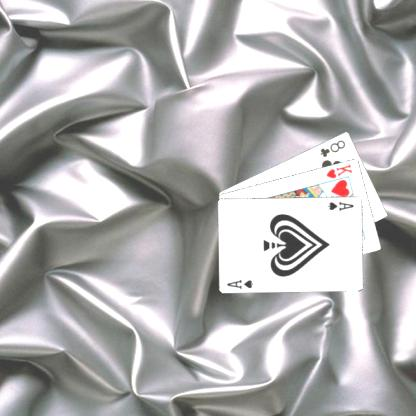8C: (317, 137, 347, 158)
AS: (326, 198, 356, 212), (224, 277, 255, 290)
KH: (323, 161, 354, 179)
